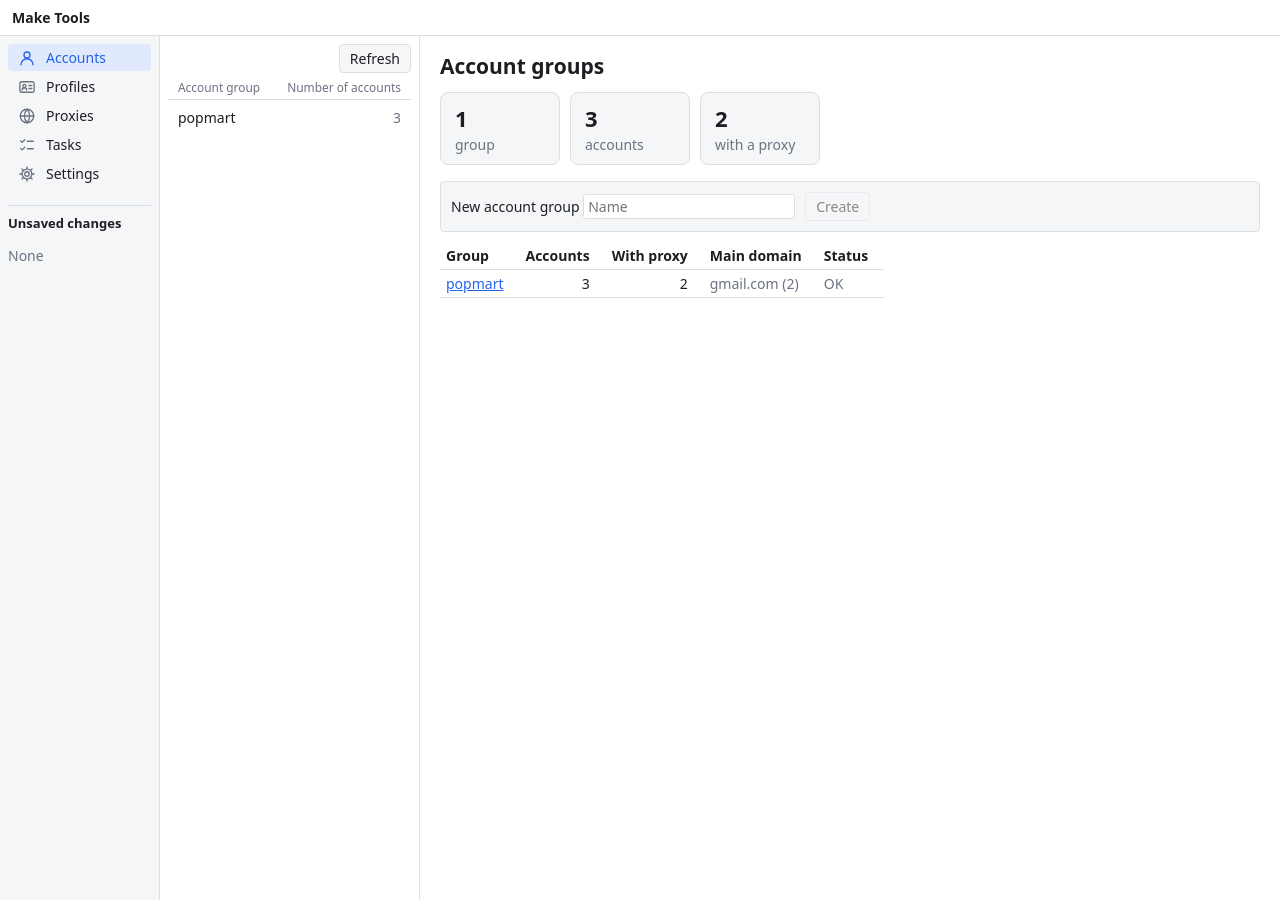
Test: account group page › shows every account with its password and proxy in plain text
The image size is (1280, 900).
expect the heading "Account groups" is shown: met, box [440,52,604,80]
Click the button "popmart": (475,284) [446,274,504,293]
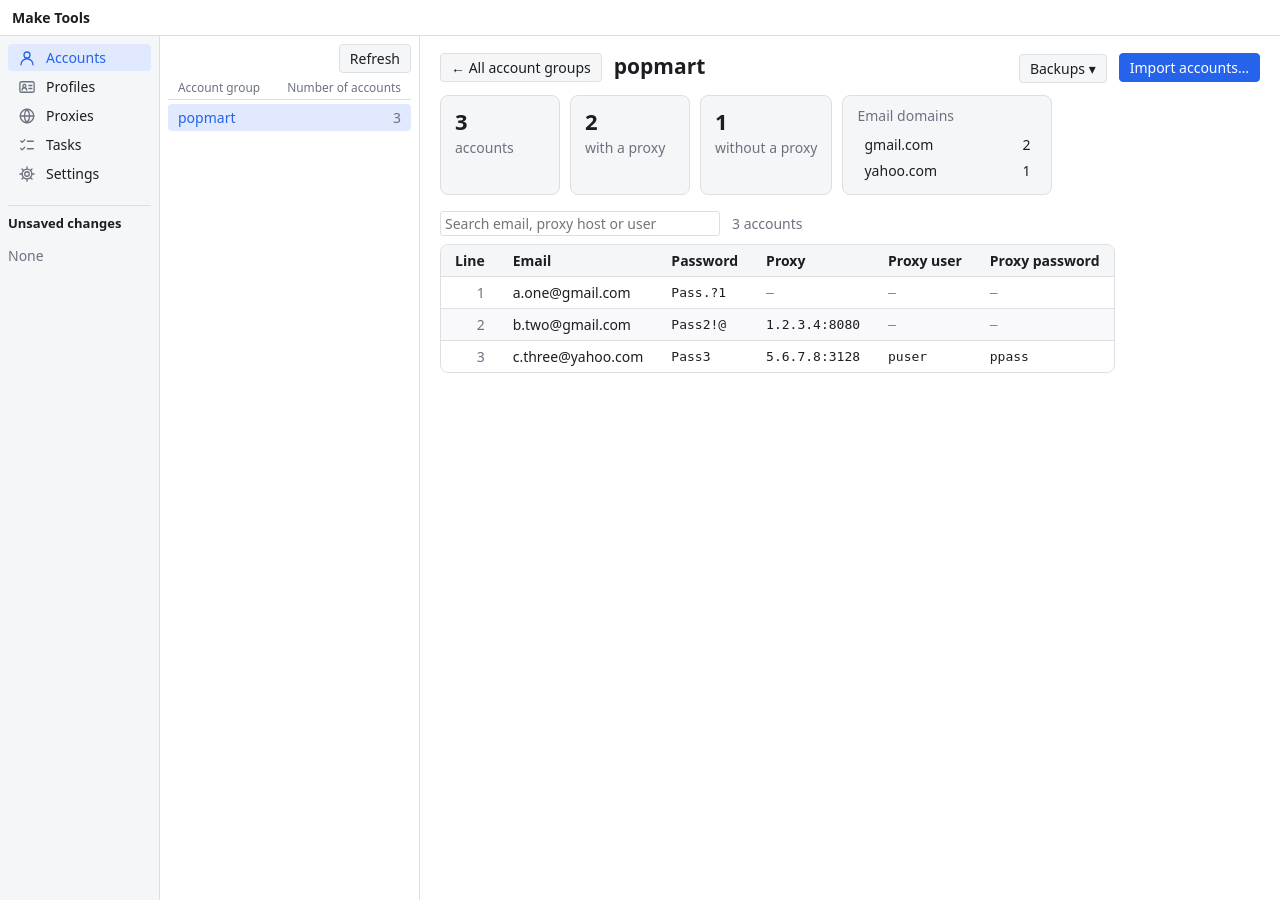
expect the heading "popmart" is shown: met, box [614,52,705,80]
expect the list items read "gmail.com2", "yahoo.com1", in this order: met, box [858,132,1038,157]; [858,158,1038,183]
